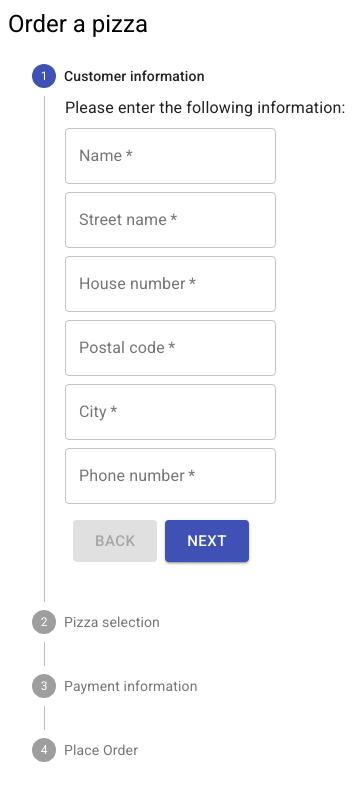
Test: App › pass input to test name input field
The width and height of the screenshot is (362, 800).
Type "John Doe" into the field with test id "name-input" at (170, 156), box [65, 128, 276, 184]
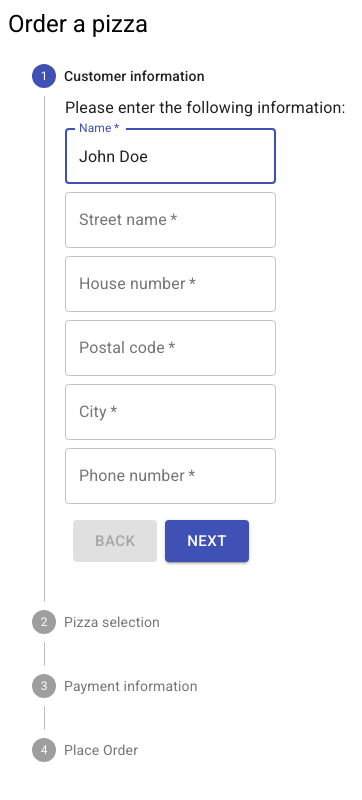
Click the button "Next" at (207, 541), box [165, 520, 249, 562]
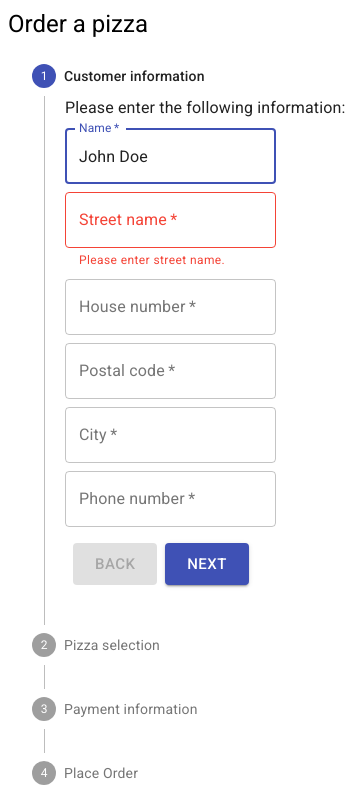
Expected: the text "Please enter street name." is shown, [79, 253, 225, 267]
